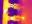Hotspot: (2, 0, 14, 23), (19, 16, 25, 21), (11, 4, 16, 8), (14, 16, 16, 21)
